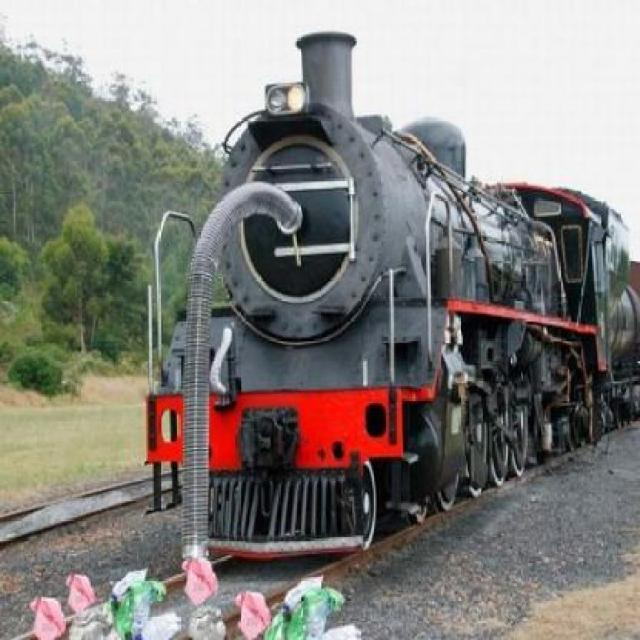garbage: (13, 563, 306, 638), (285, 556, 362, 639)
